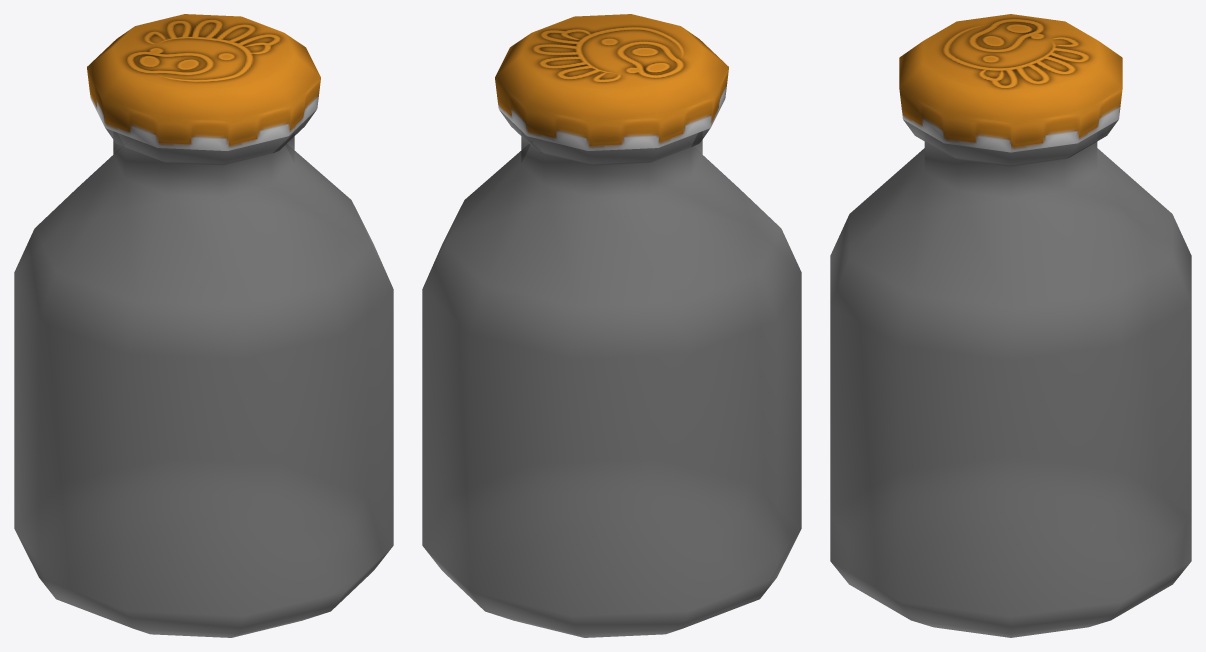
Rendered from obj_bottle_empty.fbx.
3 views of the same model, side by side, from view 1: azimuth 30°, elevation 25°; view 2: azimuth 150°, elevation 25°; view 3: azimuth 270°, elevation 25° (orthographic).
Visible parts, largest first — view 1: obj_consumable_milk; view 2: obj_consumable_milk; view 3: obj_consumable_milk.
Boxes of the visible parts, box(x1,y1,x2,y2) form: obj_consumable_milk: box(14, 14, 393, 637); obj_consumable_milk: box(422, 14, 801, 637); obj_consumable_milk: box(830, 14, 1191, 637).
Size of the model in its own units: 1.29 by 1.99 by 1.23.
